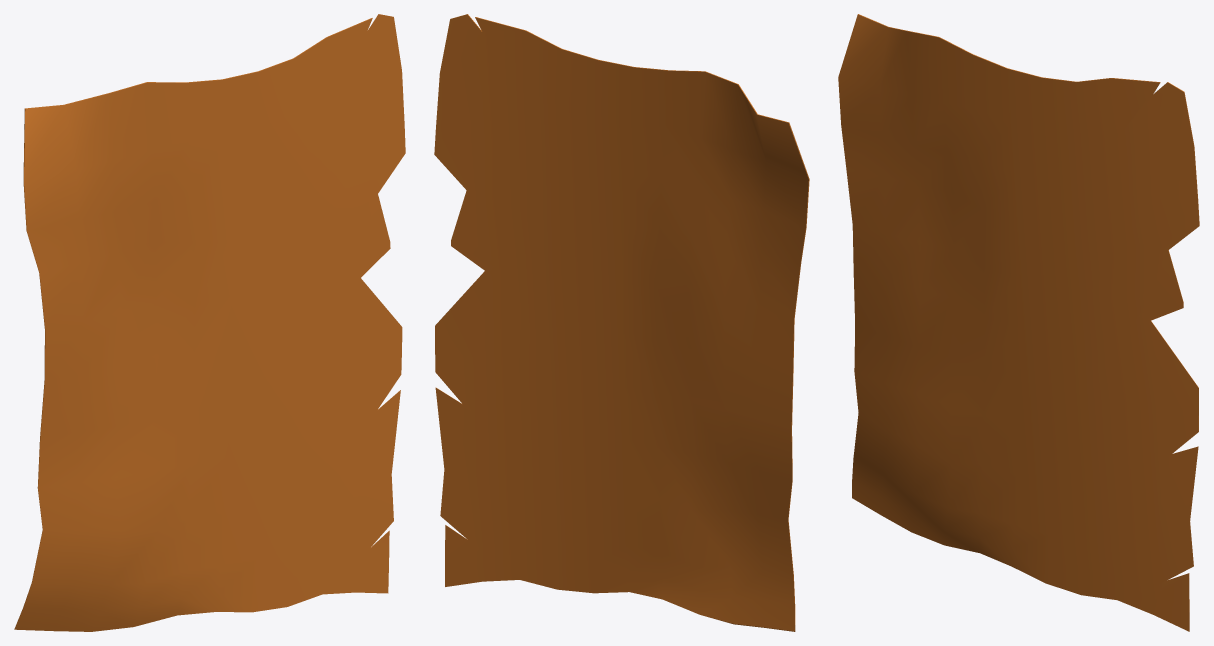
File: paperpoly.fbx
3 views of the same model, side by side, from view 1: azimuth 30°, elevation 25°; view 2: azimuth 150°, elevation 25°; view 3: azimuth 330°, elevation 25° (orthographic). The views are drawn at different scales.
Visible parts, largest first — view 1: Box001; view 2: Box001; view 3: Box001.
Part boxes in pixels (x1,y1,x2,y2): Box001: (14, 14, 405, 631); Box001: (434, 14, 809, 631); Box001: (838, 14, 1199, 631).
Bounding box in the file's own units: 79.48 × 116 × 7.69.
